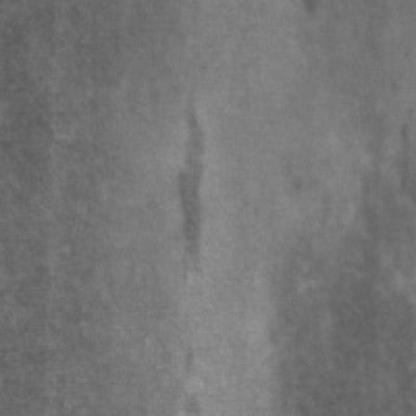inclusion: (268, 160, 410, 410), (162, 94, 208, 280)
